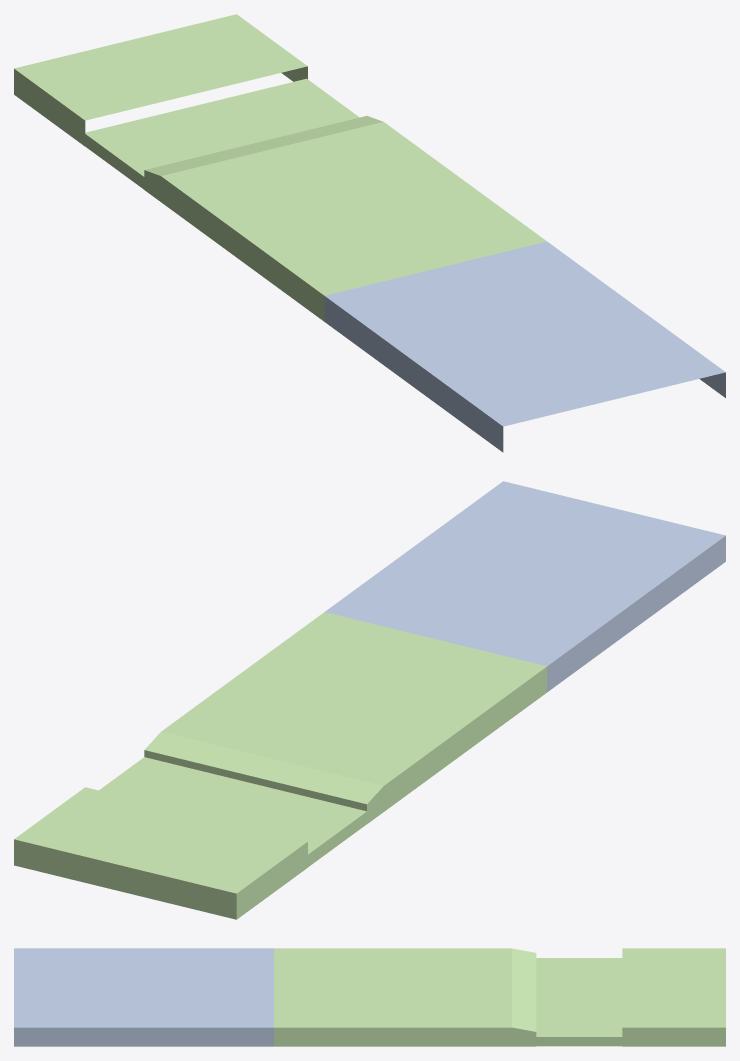
3 views of the same model, one above another, from view 1: azimuth 30°, elevation 25°; view 2: azimuth 150°, elevation 25°; view 3: azimuth 270°, elevation 25° (orthographic). The views are drawn at different scales.
Parts seen in each view (by area): view 1: Object37; view 2: Object37; view 3: Object37.
Part boxes in pixels (<box>): Object37: <box>14,14,725,452</box>; Object37: <box>14,481,725,919</box>; Object37: <box>14,948,725,1046</box>.
Size of the model in its own units: 40701 by 4564 by 154885.
